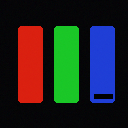3 line_h: (94, 94, 112, 98)
